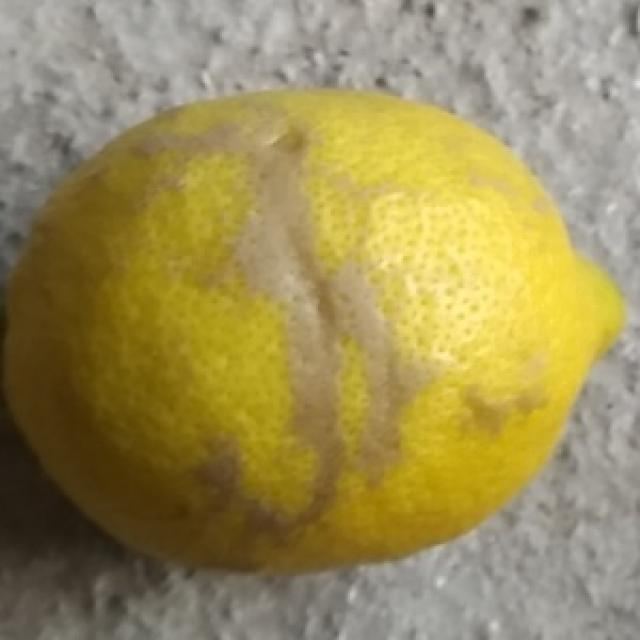overripe: (0, 82, 640, 581)
